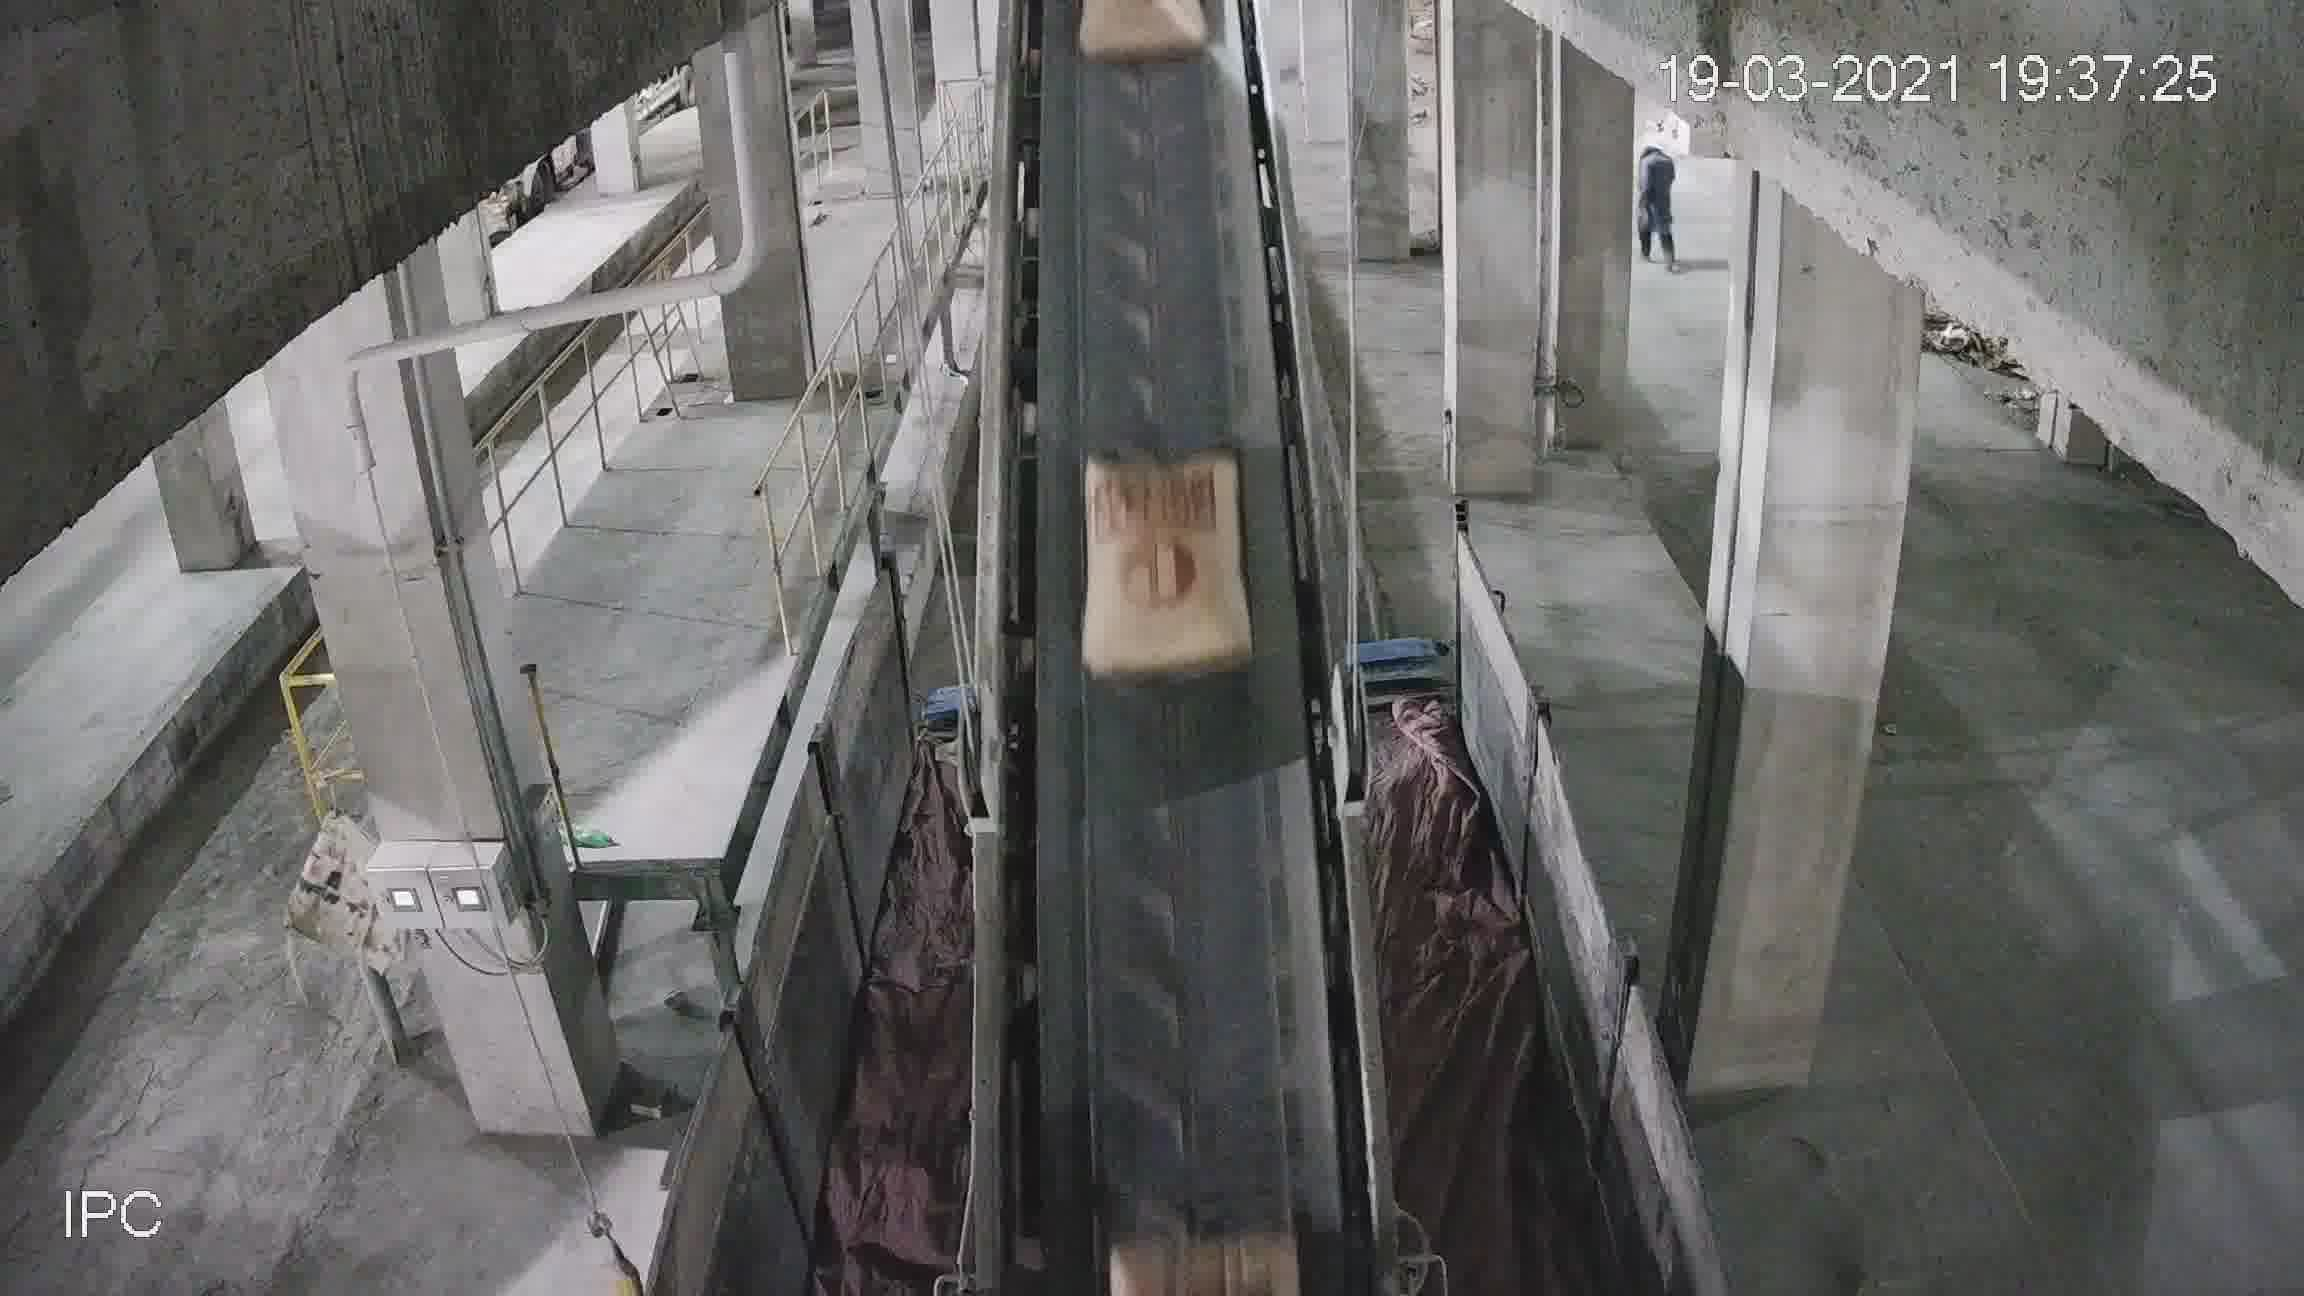bag: (1082, 457, 1241, 679), (1076, 2, 1207, 52)
belt: (978, 33, 1362, 1116)
